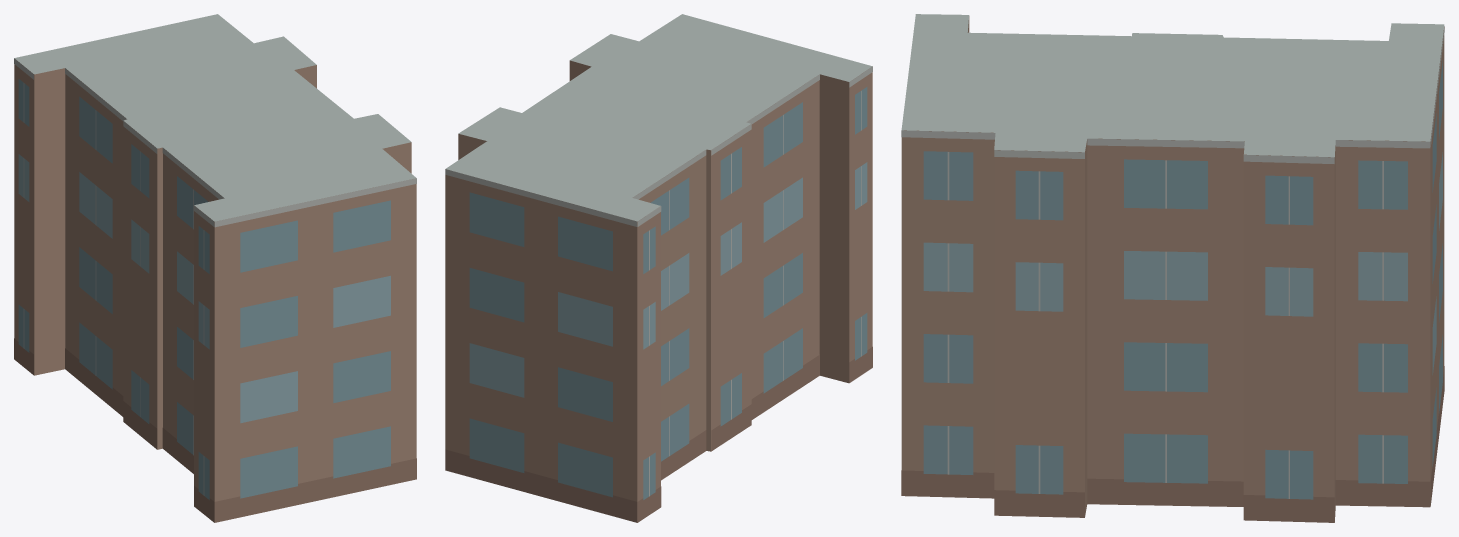
The model's file is survey-upis-32703100.glb.
The picture shows the model from 3 angles, left to right: view 1: azimuth 30°, elevation 25°; view 2: azimuth 150°, elevation 25°; view 3: azimuth 270°, elevation 25°; orthographic projection. The views are drawn at different scales.
Parts seen in each view (by area): view 1: survey-upis-32703100.tmp; view 2: survey-upis-32703100.tmp; view 3: survey-upis-32703100.tmp.
Part boxes in pixels (x1,y1,x2,y2): survey-upis-32703100.tmp: [14, 14, 416, 522]; survey-upis-32703100.tmp: [445, 14, 872, 522]; survey-upis-32703100.tmp: [901, 14, 1444, 522].
Bounding box in the file's own units: 10.81 × 12.86 × 17.32.
